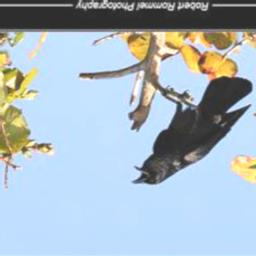Crow: (132, 77, 253, 187)
